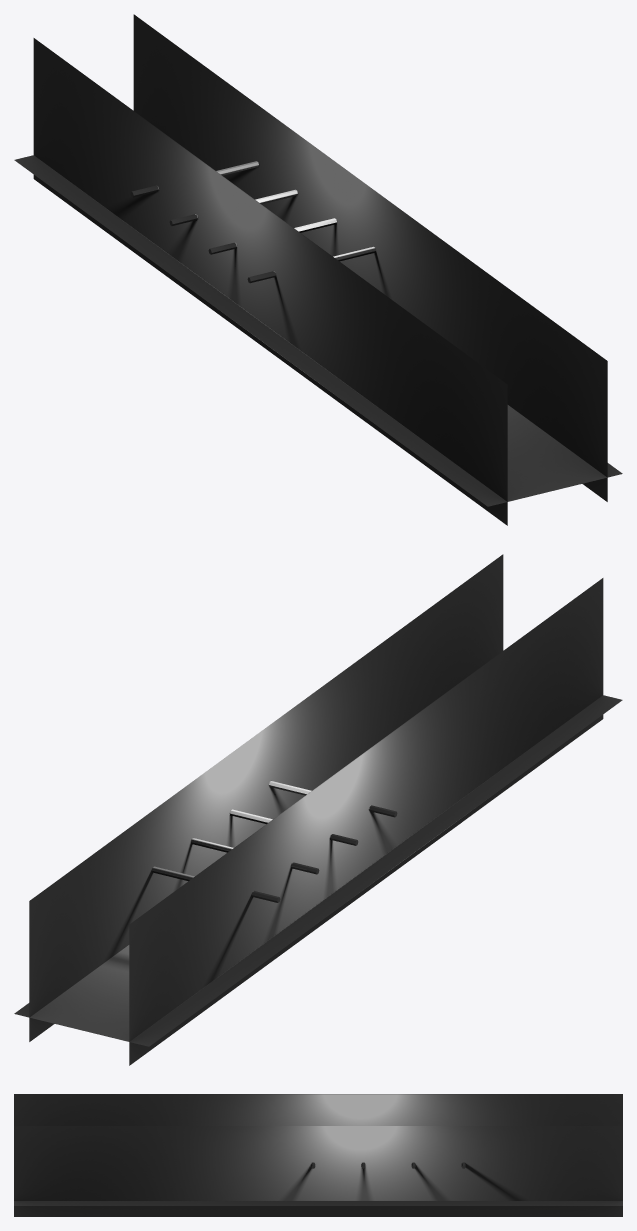
The model's file is hall.obj.
3 renders of one model, top to bottom at view 1: azimuth 30°, elevation 25°; view 2: azimuth 150°, elevation 25°; view 3: azimuth 270°, elevation 25°, orthographic. The views are drawn at different scales.
Visible parts, largest first — view 1: Cylinder.003; view 2: Cylinder.003; view 3: Cylinder.003.
Boxes of the visible parts, box(x1,y1,x2,y2) form: Cylinder.003: box(14, 14, 622, 525); Cylinder.003: box(14, 554, 622, 1065); Cylinder.003: box(14, 1094, 622, 1216).
Size of the model in its own units: 2.09 by 2.01 by 12.15.
Materials: 1 (1 with a texture image).
